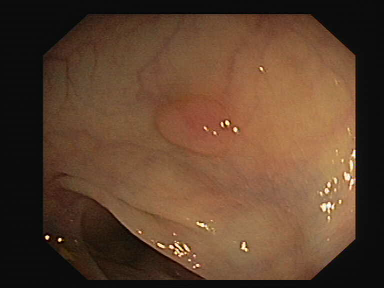polyp: (153, 80, 262, 161)
